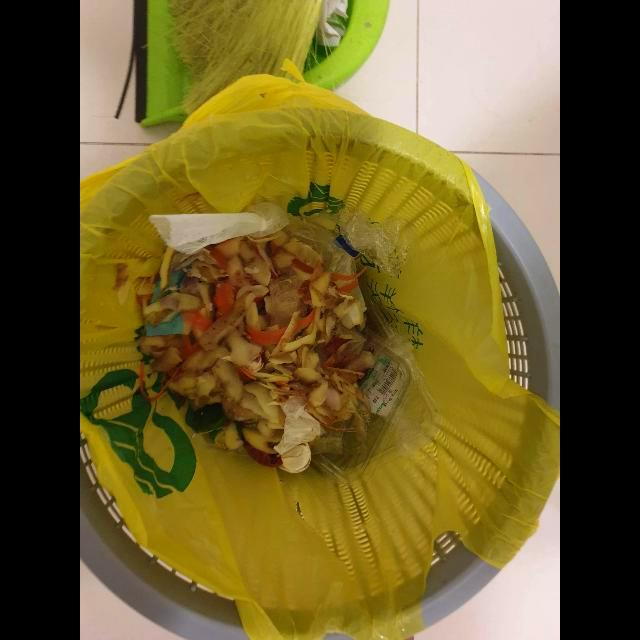paper: (148, 202, 290, 256)
plastic_bag: (334, 208, 408, 277)
